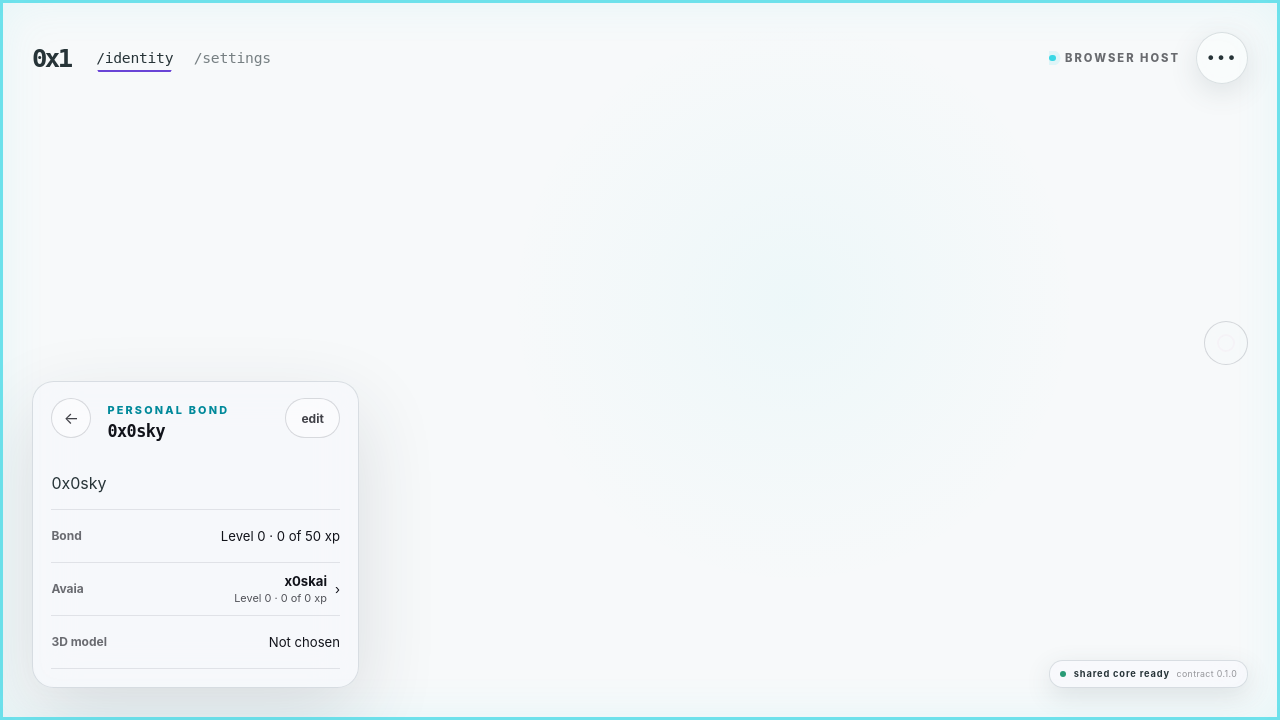
Scenario: AuthenticatedMapHomeView › reports a newer stored study without substituting another body
Click the button with aria-label "Edit this Bond" at (313, 418), box x1=285 y1=398 x2=340 y2=438
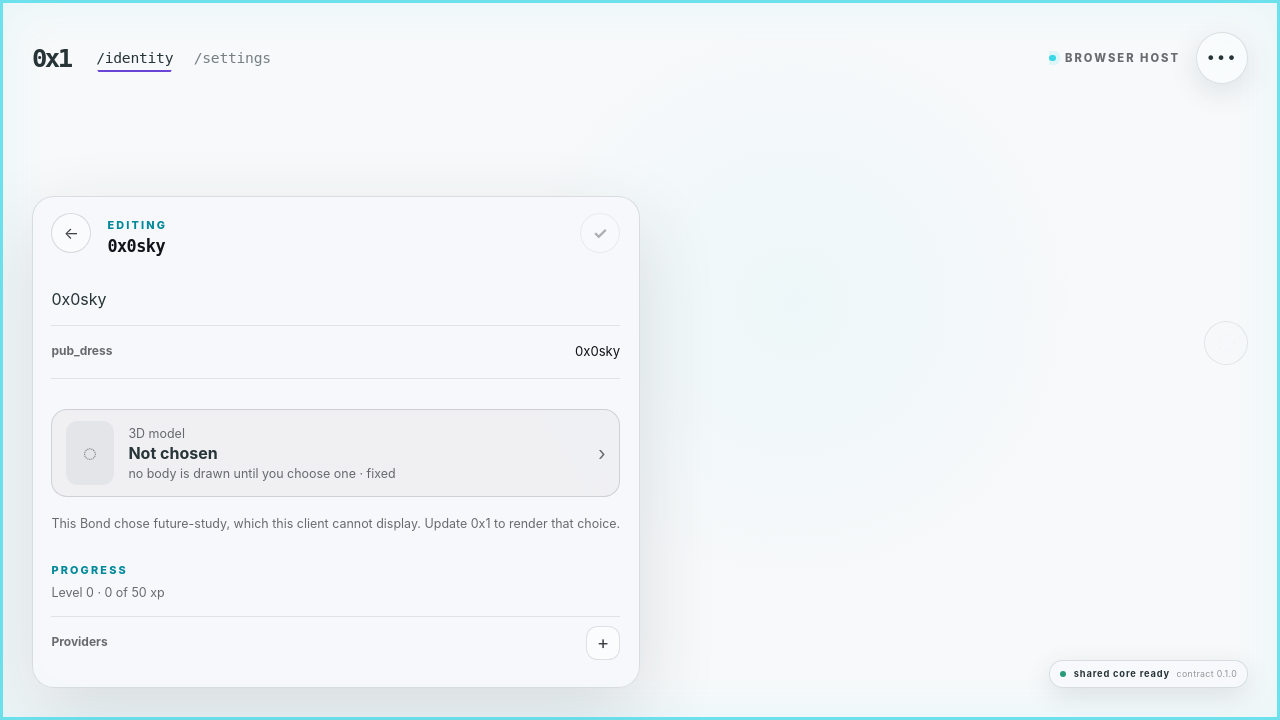
Expected: the text "future-study, which this client cannot display" is shown, x1=51 y1=516 x2=620 y2=531
Expected: the button with aria-label "Choose your 3D model" is shown, x1=51 y1=409 x2=620 y2=498
